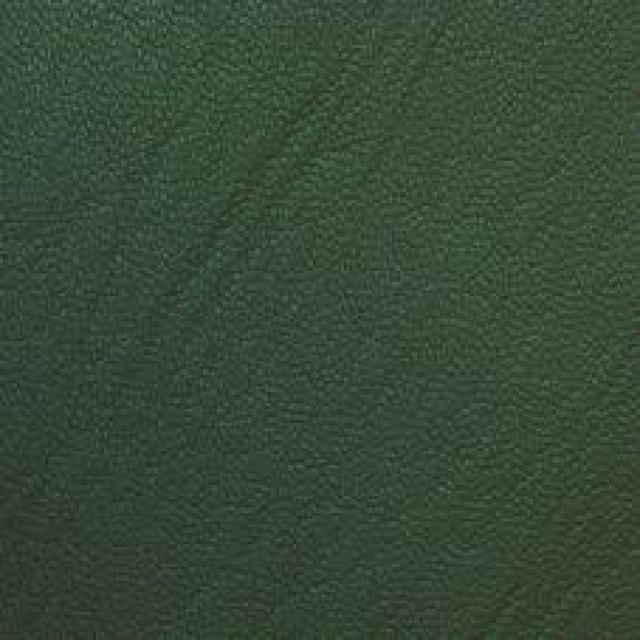Growth Marks: (237, 60, 398, 181), (158, 208, 280, 332)
